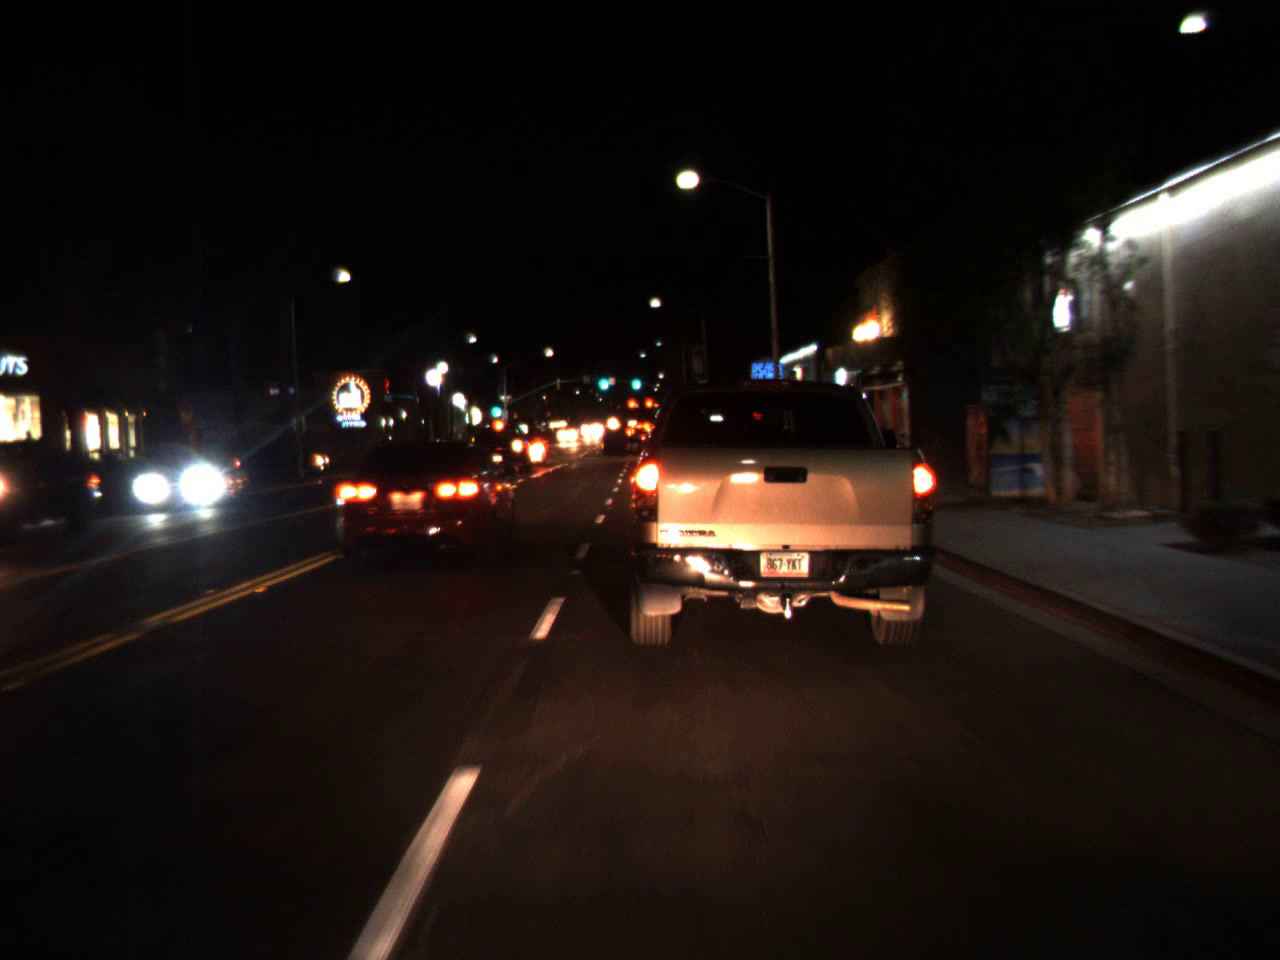go: (593, 366, 612, 393), (487, 392, 503, 422), (628, 366, 642, 393)
